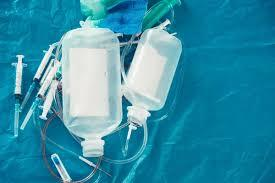Iv_Bottle: (62, 26, 121, 156), (123, 28, 181, 129)
Syringe: (20, 60, 60, 129), (20, 43, 57, 109), (142, 0, 180, 30), (12, 55, 25, 136), (39, 80, 58, 119), (51, 153, 71, 181)
